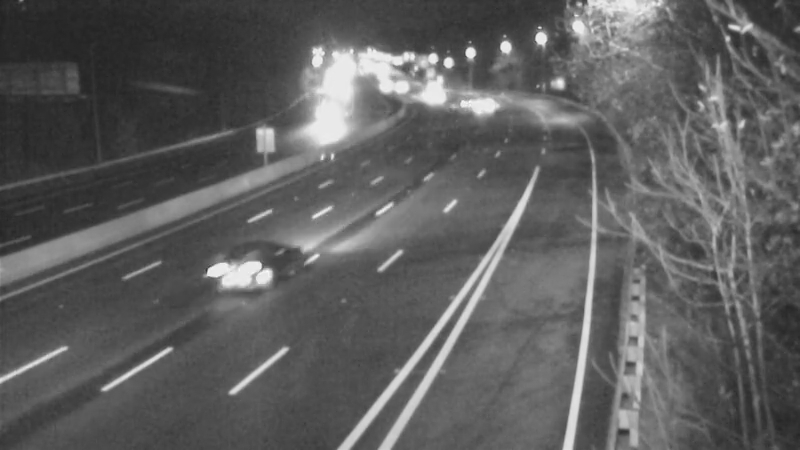vehicle: (201, 229, 281, 309), (406, 70, 456, 120), (458, 83, 508, 133), (298, 96, 348, 146)
